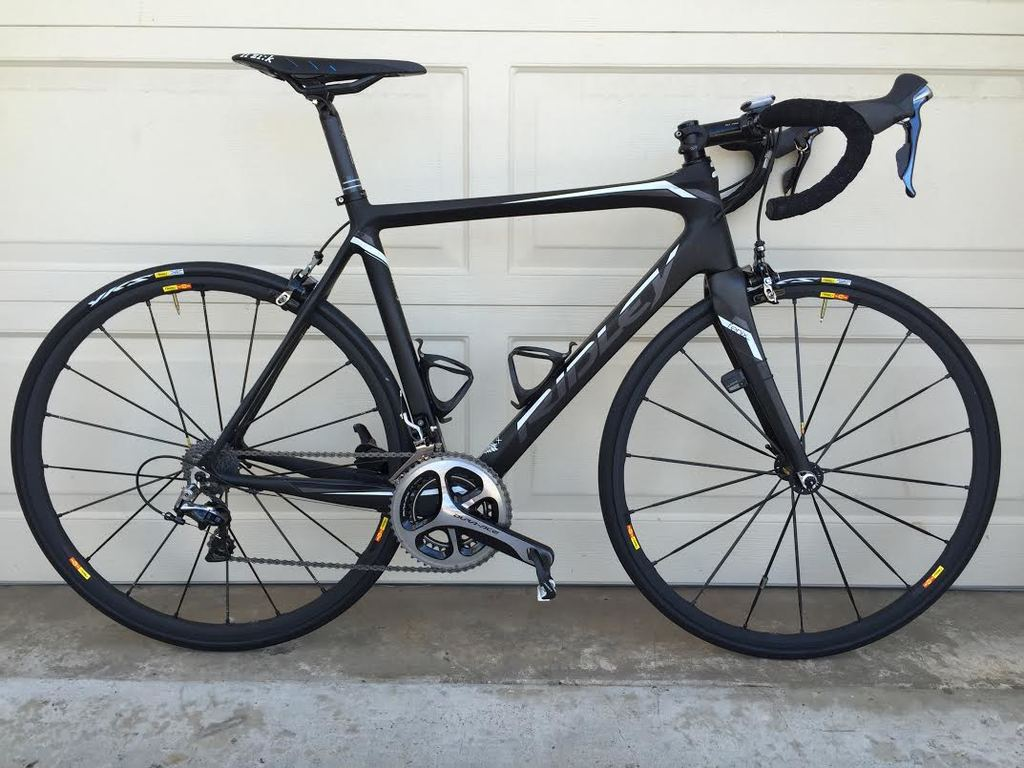Bike: (36, 46, 982, 667)
